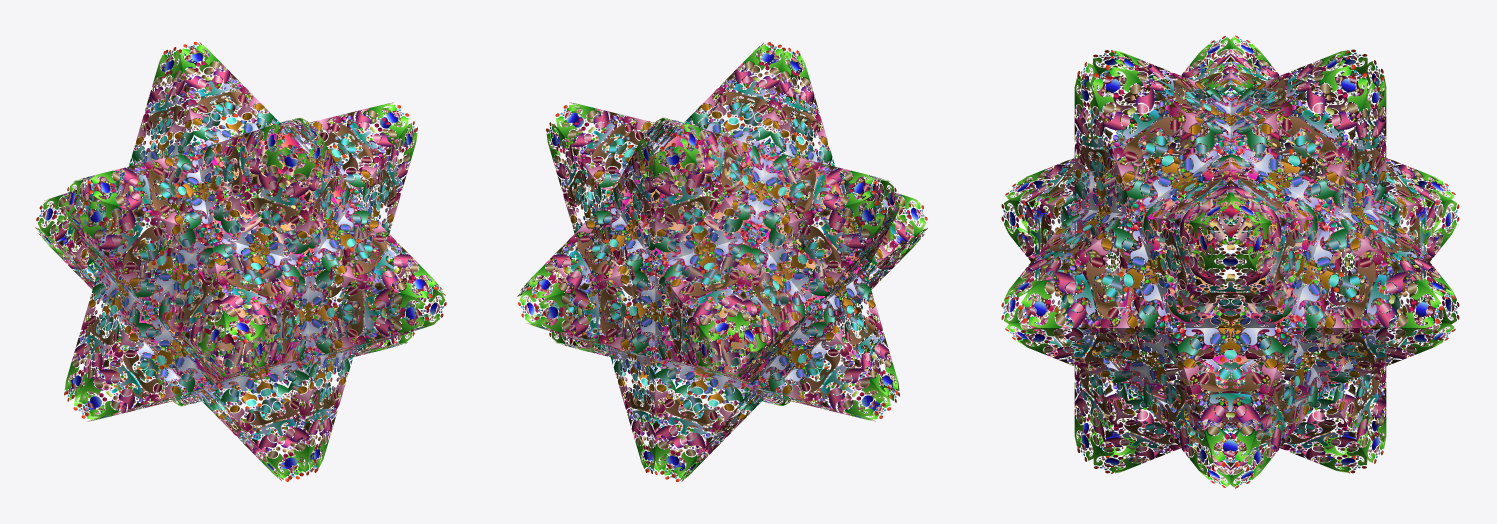
File: SmallStellatedDodecahedron12.obj
3 views of the same model, side by side, from view 1: azimuth 30°, elevation 25°; view 2: azimuth 150°, elevation 25°; view 3: azimuth 270°, elevation 25° (orthographic). The views are drawn at different scales.
Bounding box in the file's own units: 1 × 1 × 1.
Materials: 1 (1 with a texture image).
